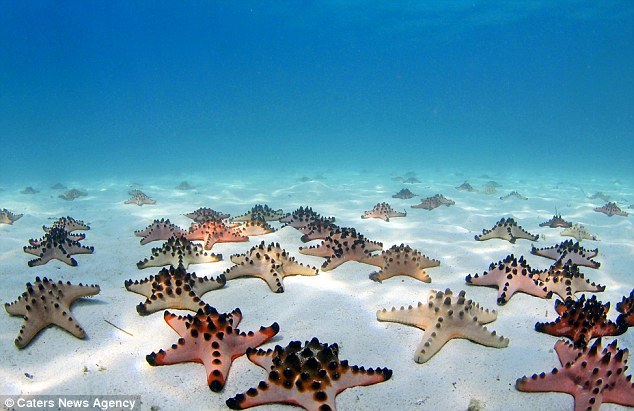starfish: (142, 305, 271, 385), (388, 284, 496, 360), (243, 342, 359, 411), (1, 274, 109, 348), (228, 239, 319, 303), (463, 248, 549, 307), (118, 263, 210, 310), (366, 241, 448, 292), (140, 233, 216, 275), (23, 233, 99, 272), (474, 210, 539, 248)
